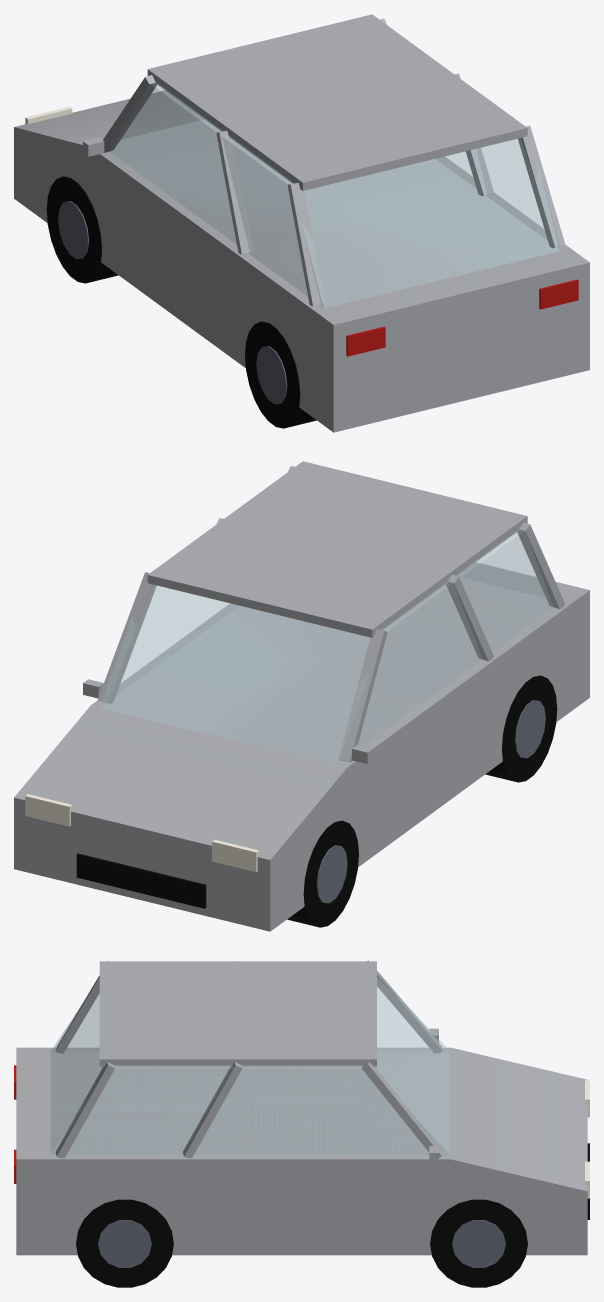
The model's file is vehicle.car.city_silver.glb.
The picture shows the model from 3 angles, top to bottom: view 1: azimuth 30°, elevation 25°; view 2: azimuth 150°, elevation 25°; view 3: azimuth 270°, elevation 25°; orthographic projection. The views are drawn at different scales.
Parts seen in each view (by area): view 1: main__car_silver, main__glass, main__rubber, main__steel_painted, main__hazard_red; view 2: main__car_silver, main__glass, main__rubber, main__plastic_black, main__steel_painted, main__light_emitter; view 3: main__car_silver, main__glass, main__rubber, main__steel_painted.
Boxes of the visible parts, x1,y1,x2,y2 form: main__car_silver: (14, 14, 589, 432); main__glass: (109, 82, 560, 308); main__rubber: (46, 176, 316, 428); main__steel_painted: (58, 201, 287, 404); main__hazard_red: (346, 279, 578, 356); main__car_silver: (14, 461, 589, 931); main__glass: (100, 529, 552, 764); main__rubber: (287, 675, 557, 927); main__plastic_black: (76, 853, 206, 908); main__steel_painted: (316, 700, 545, 903); main__light_emitter: (25, 794, 258, 871); main__car_silver: (16, 960, 587, 1255); main__glass: (51, 978, 449, 1154); main__rubber: (76, 1199, 527, 1287); main__steel_painted: (98, 1220, 505, 1267).
Bounding box in the file's own units: 1.8 × 1.5 × 3.53.
